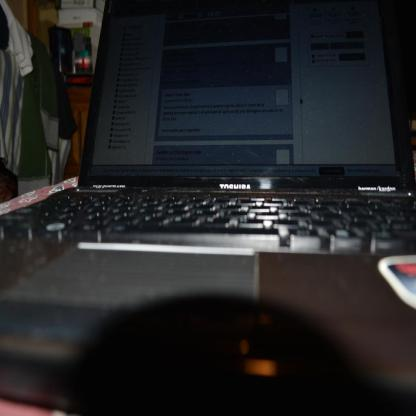board: (6, 1, 408, 343)
